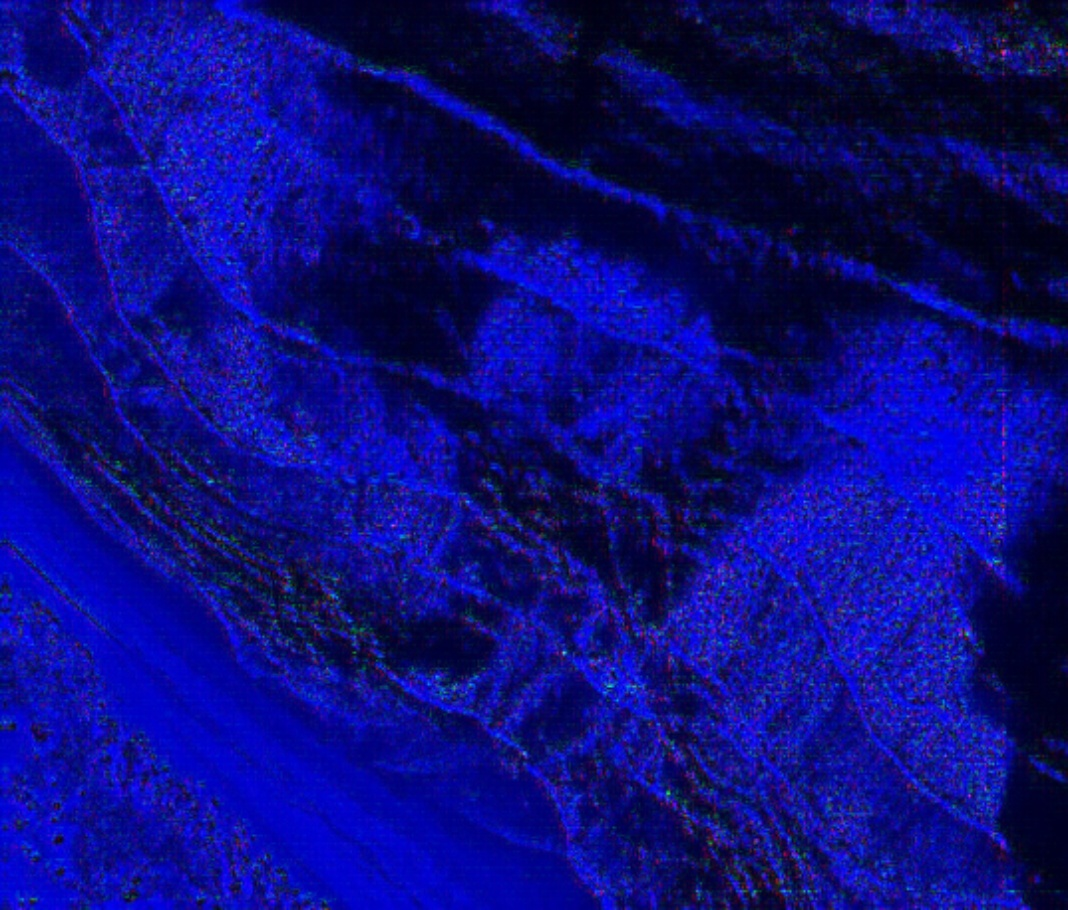rip_current: (259, 99, 571, 651)
